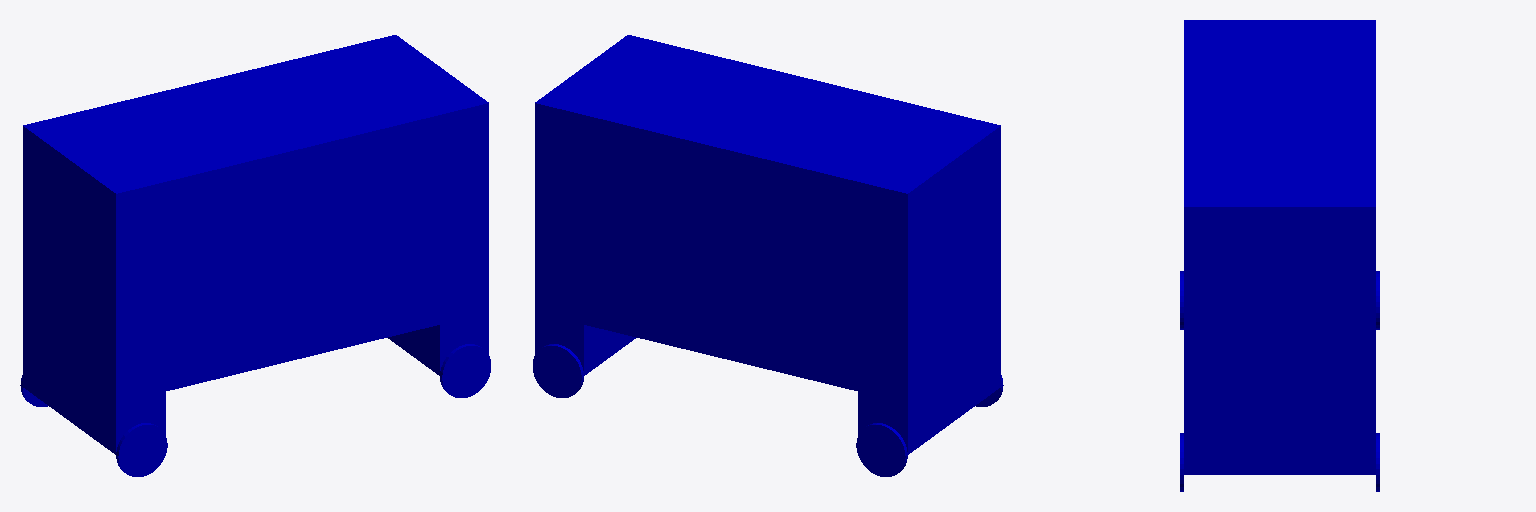
URDF robot description (agribot):
<?xml version="1.0" encoding="utf-8"?>
<!-- =================================================================================== -->
<!-- |    This document was autogenerated by xacro from src/agribot_description/urdf/agribot.urdf.xacro | -->
<!-- |    EDITING THIS FILE BY HAND IS NOT RECOMMENDED                                 | -->
<!-- =================================================================================== -->
<robot name="agribot" xmlns:xacro="http://ros.org/wiki/xacro">
  <!-- Init colour -->
  <material name="black">
    <color rgba="0.0 0.0 0.0 1.0"/>
  </material>
  <material name="dark">
    <color rgba="0.3 0.3 0.3 1.0"/>
  </material>
  <material name="light_black">
    <color rgba="0.4 0.4 0.4 1.0"/>
  </material>
  <material name="blue">
    <color rgba="0.0 0.0 0.8 1.0"/>
  </material>
  <material name="green">
    <color rgba="0.0 0.8 0.0 1.0"/>
  </material>
  <material name="grey">
    <color rgba="0.2 0.2 0.2 1.0"/>
  </material>
  <material name="orange">
    <color rgba="1.0 0.423529411765 0.0392156862745 1.0"/>
  </material>
  <material name="brown">
    <color rgba="0.870588235294 0.811764705882 0.764705882353 1.0"/>
  </material>
  <material name="red">
    <color rgba="0.8 0.0 0.0 1.0"/>
  </material>
  <material name="white">
    <color rgba="1.0 1.0 1.0 1.0"/>
  </material>
  <gazebo reference="chassis_link">
    <material>Gazebo/Green</material>
  </gazebo>
  <gazebo reference="front_left_wheel_link">
    <mu1>10</mu1>
    <mu2>10</mu2>
    <kp>1000000.0</kp>
    <kd>10.0</kd>
    <minDepth>0.001</minDepth>
    <maxVel>0.1</maxVel>
    <fdir1>1 0 0</fdir1>
    <material>Gazebo/Gray</material>
  </gazebo>
  <gazebo reference="front_right_wheel_link">
    <mu1>10</mu1>
    <mu2>10</mu2>
    <kp>1000000.0</kp>
    <kd>10.0</kd>
    <minDepth>0.001</minDepth>
    <maxVel>0.1</maxVel>
    <fdir1>1 0 0</fdir1>
    <material>Gazebo/Gray</material>
  </gazebo>
  <gazebo reference="back_left_wheel_link">
    <mu1>10</mu1>
    <mu2>10</mu2>
    <kp>1000000.0</kp>
    <kd>10.0</kd>
    <minDepth>0.001</minDepth>
    <maxVel>0.1</maxVel>
    <fdir1>1 0 0</fdir1>
    <material>Gazebo/Gray</material>
  </gazebo>
  <gazebo reference="back_right_wheel_link">
    <mu1>10</mu1>
    <mu2>10</mu2>
    <kp>1000000.0</kp>
    <kd>10.0</kd>
    <minDepth>0.001</minDepth>
    <maxVel>0.1</maxVel>
    <fdir1>1 0 0</fdir1>
    <material>Gazebo/Gray</material>
  </gazebo>
  <gazebo reference="front_cart_link">
    <material>Gazebo/White</material>
    <mu1>0</mu1>
    <mu2>0</mu2>
  </gazebo>
  <gazebo reference="front_support_link">
    <material>Gazebo/White</material>
    <mu1>0</mu1>
    <mu2>0</mu2>
  </gazebo>
  <gazebo reference="back_cart_link">
    <material>Gazebo/Black</material>
    <mu1>0</mu1>
    <mu2>0</mu2>
  </gazebo>
  <gazebo reference="back_support_link">
    <material>Gazebo/Black</material>
    <mu1>0</mu1>
    <mu2>0</mu2>
  </gazebo>
  <link name="base_footprint"/>
  <joint name="chassis_joint" type="fixed">
    <parent link="base_footprint"/>
    <child link="chassis_link"/>
    <origin rpy="0 0 0" xyz="0 0 1.13"/>
  </joint>
  <link name="chassis_link">
    <visual>
      <origin rpy="0 0 0" xyz="0.0 0.0 0.0"/>
      <geometry>
        <box size="2.42 1.05 1.3"/>
      </geometry>
      <material name="blue"/>
    </visual>
    <collision>
      <origin rpy="0 0 0" xyz="0.0 0.0 0.0"/>
      <geometry>
        <box size="2.42 1.05 1.3"/>
      </geometry>
    </collision>
    <inertial>
      <origin rpy="0 0 0" xyz="0.0 0.0 0.0"/>
      <!-- <mass value="10"/> -->
      <mass value="1600"/>
      <inertia ixx="0.01" ixy="0.0" ixz="0.0" iyy="0.01" iyz="0.0" izz="0.01"/>
    </inertial>
  </link>
  <joint name="front_cart_joint" type="revolute">
    <parent link="chassis_link"/>
    <child link="front_cart_link"/>
    <limit effort="1000.0" lower="-0.785398163397" upper="0.785398163397" velocity="1000.0"/>
    <origin rpy="0 0 0" xyz="1.05 0.0 -0.81"/>
    <axis xyz="0 0 1"/>
  </joint>
  <link name="front_cart_link">
    <visual>
      <origin rpy="0 0 0" xyz="0.0 0.0 0.0"/>
      <geometry>
        <box size="0.32 1.05 0.32"/>
      </geometry>
      <material name="blue"/>
    </visual>
    <collision>
      <origin rpy="0 0 0" xyz="0.0 0.0 0.0"/>
      <geometry>
        <box size="0.32 1.05 0.32"/>
      </geometry>
    </collision>
    <inertial>
      <origin rpy="0 0 0" xyz="0.0 0.0 0.0"/>
      <!-- <mass value="1"/> -->
      <mass value="100"/>
      <inertia ixx="0.01" ixy="0.0" ixz="0.0" iyy="0.01" iyz="0.0" izz="0.01"/>
    </inertial>
  </link>
  <joint name="front_left_wheel_joint" type="continuous">
    <parent link="front_cart_link"/>
    <child link="front_left_wheel_link"/>
    <origin rpy="-1.57079632679 0 0" xyz="0.0 0.5375 -0.16"/>
    <axis xyz="0 0 1"/>
  </joint>
  <link name="front_left_wheel_link">
    <visual>
      <origin rpy="0 0 0" xyz="0 0 0"/>
      <geometry>
        <cylinder length="0.025" radius="0.16"/>
      </geometry>
      <material name="blue"/>
    </visual>
    <collision>
      <origin rpy="0 0 0" xyz="0 0 0"/>
      <geometry>
        <cylinder length="0.025" radius="0.16"/>
      </geometry>
    </collision>
    <inertial>
      <origin xyz="0 0 0"/>
      <!-- <mass value="0.01" /> -->
      <mass value="50"/>
      <inertia ixx="0.001" ixy="0.0" ixz="0.0" iyy="0.001" iyz="0.0" izz="0.001"/>
    </inertial>
  </link>
  <joint name="front_right_wheel_joint" type="continuous">
    <parent link="front_cart_link"/>
    <child link="front_right_wheel_link"/>
    <origin rpy="-1.57079632679 0 0" xyz="0.0 -0.5375 -0.16"/>
    <axis xyz="0 0 1"/>
  </joint>
  <link name="front_right_wheel_link">
    <visual>
      <origin rpy="0 0 0" xyz="0 0 0"/>
      <geometry>
        <cylinder length="0.025" radius="0.16"/>
      </geometry>
      <material name="blue"/>
    </visual>
    <collision>
      <origin rpy="0 0 0" xyz="0 0 0"/>
      <geometry>
        <cylinder length="0.025" radius="0.16"/>
      </geometry>
    </collision>
    <inertial>
      <origin xyz="0 0 0"/>
      <!-- <mass value="0.01" /> -->
      <mass value="50"/>
      <inertia ixx="0.001" ixy="0.0" ixz="0.0" iyy="0.001" iyz="0.0" izz="0.001"/>
    </inertial>
  </link>
  <joint name="back_cart_joint" type="revolute">
    <parent link="chassis_link"/>
    <child link="back_cart_link"/>
    <limit effort="1000.0" lower="-0.785398163397" upper="0.785398163397" velocity="1000.0"/>
    <origin rpy="0 0 0" xyz="-1.05 0.0 -0.81"/>
    <axis xyz="0 0 1"/>
  </joint>
  <link name="back_cart_link">
    <visual>
      <origin rpy="0 0 0" xyz="0.0 0.0 0.0"/>
      <geometry>
        <box size="0.32 1.05 0.32"/>
      </geometry>
      <material name="blue"/>
    </visual>
    <collision>
      <origin rpy="0 0 0" xyz="0.0 0.0 0.0"/>
      <geometry>
        <box size="0.32 1.05 0.32"/>
      </geometry>
    </collision>
    <inertial>
      <origin rpy="0 0 0" xyz="0.0 0.0 0.0"/>
      <!-- <mass value="1"/> -->
      <mass value="100"/>
      <inertia ixx="0.01" ixy="0.0" ixz="0.0" iyy="0.01" iyz="0.0" izz="0.01"/>
    </inertial>
  </link>
  <joint name="back_left_wheel_joint" type="continuous">
    <parent link="back_cart_link"/>
    <child link="back_left_wheel_link"/>
    <origin rpy="-1.57079632679 0 0" xyz="0.0 0.5375 -0.16"/>
    <axis xyz="0 0 1"/>
  </joint>
  <link name="back_left_wheel_link">
    <visual>
      <origin rpy="0 0 0" xyz="0 0 0"/>
      <geometry>
        <cylinder length="0.025" radius="0.16"/>
      </geometry>
      <material name="blue"/>
    </visual>
    <collision>
      <origin rpy="0 0 0" xyz="0 0 0"/>
      <geometry>
        <cylinder length="0.025" radius="0.16"/>
      </geometry>
    </collision>
    <inertial>
      <origin xyz="0 0 0"/>
      <!-- <mass value="0.01" /> -->
      <mass value="50"/>
      <inertia ixx="0.001" ixy="0.0" ixz="0.0" iyy="0.001" iyz="0.0" izz="0.001"/>
    </inertial>
  </link>
  <joint name="back_right_wheel_joint" type="continuous">
    <parent link="back_cart_link"/>
    <child link="back_right_wheel_link"/>
    <origin rpy="-1.57079632679 0 0" xyz="0.0 -0.5375 -0.16"/>
    <axis xyz="0 0 1"/>
  </joint>
  <link name="back_right_wheel_link">
    <visual>
      <origin rpy="0 0 0" xyz="0 0 0"/>
      <geometry>
        <cylinder length="0.025" radius="0.16"/>
      </geometry>
      <material name="blue"/>
    </visual>
    <collision>
      <origin rpy="0 0 0" xyz="0 0 0"/>
      <geometry>
        <cylinder length="0.025" radius="0.16"/>
      </geometry>
    </collision>
    <inertial>
      <origin xyz="0 0 0"/>
      <!-- <mass value="0.01" /> -->
      <mass value="50"/>
      <inertia ixx="0.001" ixy="0.0" ixz="0.0" iyy="0.001" iyz="0.0" izz="0.001"/>
    </inertial>
  </link>
  <gazebo>
    <plugin filename="libgazebo_ros_agribot.so" name="agribot_controller">
      <wheelSeparation> 1.075 </wheelSeparation>
      <wheelRadius> 0.16 </wheelRadius>
      <chasisLength>2.1</chasisLength>
    </plugin>
  </gazebo>
</robot>

--- Facts derived from the render (not from the file) ---
The picture shows the robot from 3 angles, left to right: view 1: azimuth 30°, elevation 25°; view 2: azimuth 150°, elevation 25°; view 3: azimuth 270°, elevation 25°; orthographic projection.
Model agribot with 8 links and 7 joints (2 revolute, 4 continuous, 1 fixed), rooted at base_footprint, posed every joint at zero.
Links seen in each view (by area): view 1: chassis_link, back_cart_link, front_cart_link, front_right_wheel_link, back_right_wheel_link; view 2: chassis_link, back_cart_link, front_cart_link, front_left_wheel_link, back_left_wheel_link; view 3: chassis_link, front_cart_link.
Boxes of the visible links, <box> form: chassis_link: <box>23,35,488,403</box>; back_cart_link: <box>23,336,165,454</box>; front_cart_link: <box>388,313,488,375</box>; front_right_wheel_link: <box>440,344,490,397</box>; back_right_wheel_link: <box>116,423,167,476</box>; chassis_link: <box>535,35,1000,403</box>; back_cart_link: <box>858,336,1000,454</box>; front_cart_link: <box>535,313,635,375</box>; front_left_wheel_link: <box>533,344,583,397</box>; back_left_wheel_link: <box>856,423,907,476</box>; chassis_link: <box>1184,20,1375,421</box>; front_cart_link: <box>1184,422,1375,474</box>.
Bounding box of the posed robot: 2.42 × 1.1 × 1.78 m (x, y, z).
Geometry: primitives only (box / cylinder / sphere), no mesh files.
